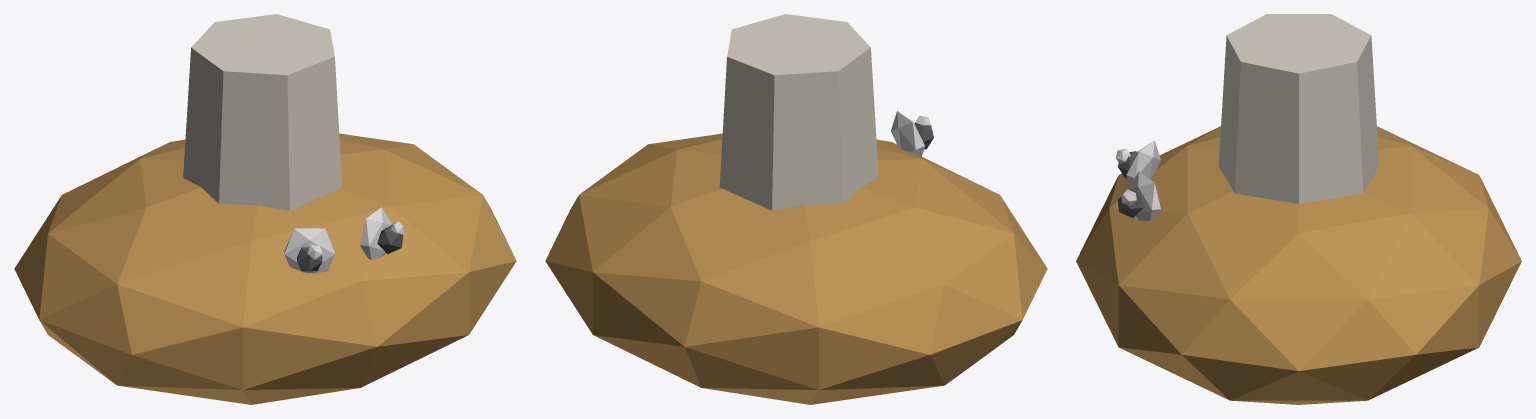
The model's file is auricularia-nigricans.glb.
3 renders of one model, left to right at view 1: azimuth 30°, elevation 25°; view 2: azimuth 150°, elevation 25°; view 3: azimuth 270°, elevation 25°, orthographic.
Visible parts, largest first — view 1: blob, stalk, pface-eye-r, pface-eye-l, pface-pupil-l; view 2: blob, stalk, pface-eye-r; view 3: blob, stalk, pface-eye-l, pface-eye-r.
Boxes of the visible parts, x1=… form: blob: x1=14, y1=133, x2=516, y2=404; stalk: x1=183, y1=14, x2=342, y2=210; pface-eye-r: x1=284, y1=228, x2=335, y2=273; pface-eye-l: x1=360, y1=207, x2=391, y2=260; pface-pupil-l: x1=377, y1=226, x2=402, y2=253; blob: x1=545, y1=133, x2=1047, y2=404; stalk: x1=719, y1=14, x2=878, y2=210; pface-eye-r: x1=891, y1=111, x2=924, y2=157; blob: x1=1076, y1=126, x2=1521, y2=404; stalk: x1=1218, y1=14, x2=1379, y2=203; pface-eye-l: x1=1128, y1=171, x2=1160, y2=220; pface-eye-r: x1=1126, y1=140, x2=1160, y2=185.
Bounding box in the file's own units: 0.28 × 0.19 × 0.24.
